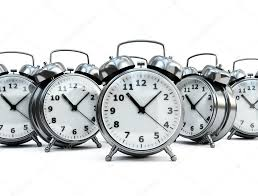alarm_clock: (103, 38, 182, 158)
